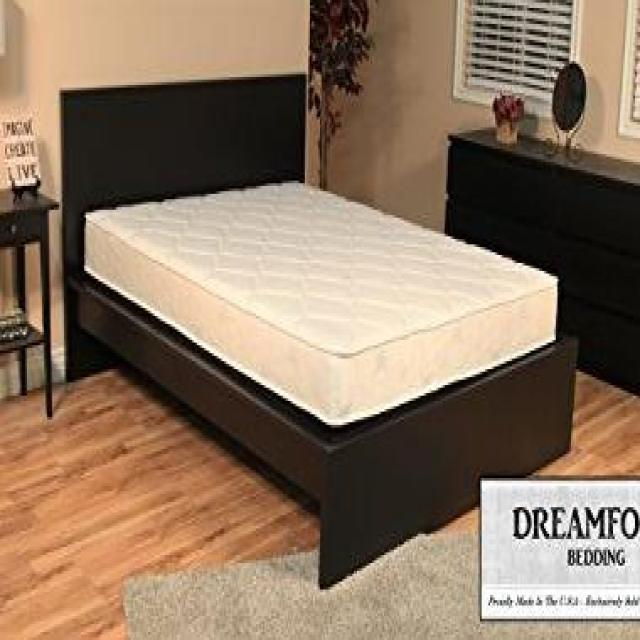bed: (57, 69, 578, 590)
